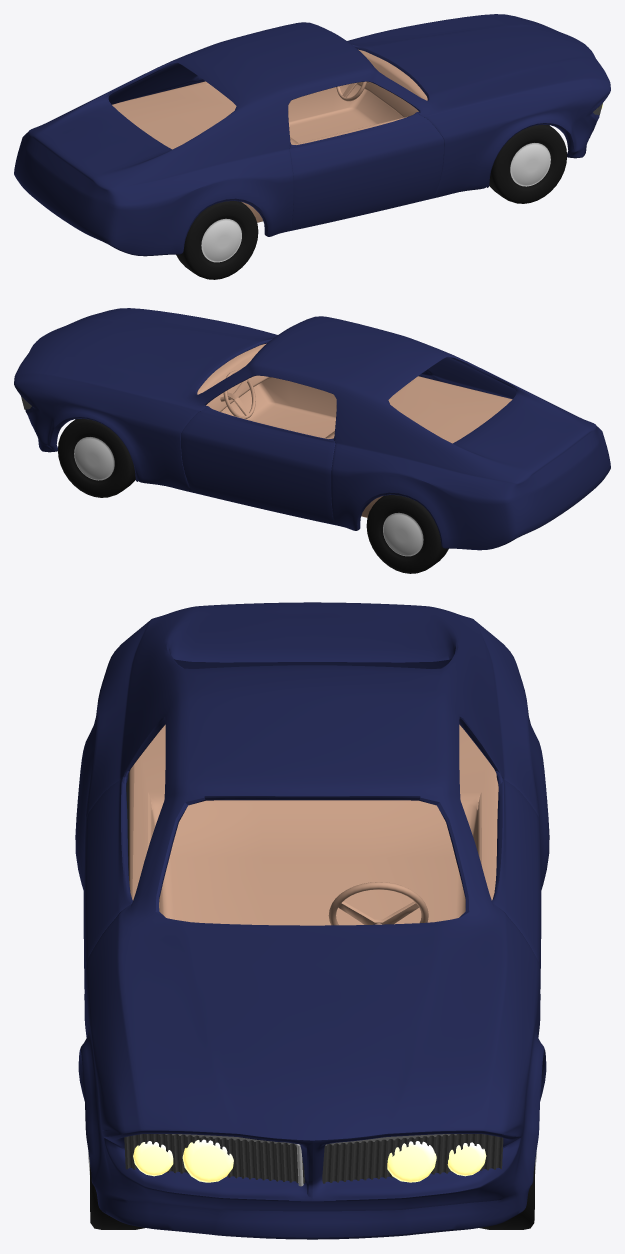
The model's file is Mustang_Foundation_8_EXPORT_2.glb.
The picture shows the model from 3 angles, top to bottom: view 1: azimuth 30°, elevation 25°; view 2: azimuth 150°, elevation 25°; view 3: azimuth 270°, elevation 25°; orthographic projection. The views are drawn at different scales.
Visible parts, largest first — view 1: Body, Interior, Wheel_RL, Wheel_FL; view 2: Body, Interior, Wheel_RR, Wheel_FR, Steering_Wheel; view 3: Body, Interior, Grille, Steering_Wheel, Wheel_FL, Wheel_FR.
Boxes of the visible parts, x1=… form: Body: x1=14, y1=14, x2=610, y2=256; Interior: x1=112, y1=49, x2=427, y2=222; Wheel_RL: x1=176, y1=201, x2=258, y2=279; Wheel_FL: x1=489, y1=124, x2=566, y2=203; Body: x1=14, y1=308, x2=610, y2=550; Interior: x1=197, y1=343, x2=512, y2=517; Wheel_RR: x1=366, y1=495, x2=448, y2=573; Wheel_FR: x1=58, y1=418, x2=135, y2=497; Steering_Wheel: x1=220, y1=370, x2=255, y2=418; Body: x1=75, y1=602, x2=549, y2=1239; Interior: x1=129, y1=724, x2=498, y2=925; Grille: x1=124, y1=1134, x2=503, y2=1183; Steering_Wheel: x1=328, y1=882, x2=428, y2=925; Wheel_FL: x1=88, y1=1152, x2=144, y2=1229; Wheel_FR: x1=480, y1=1152, x2=536, y2=1229.
Size of the model in its own units: 4.7 by 1.32 by 1.81.
